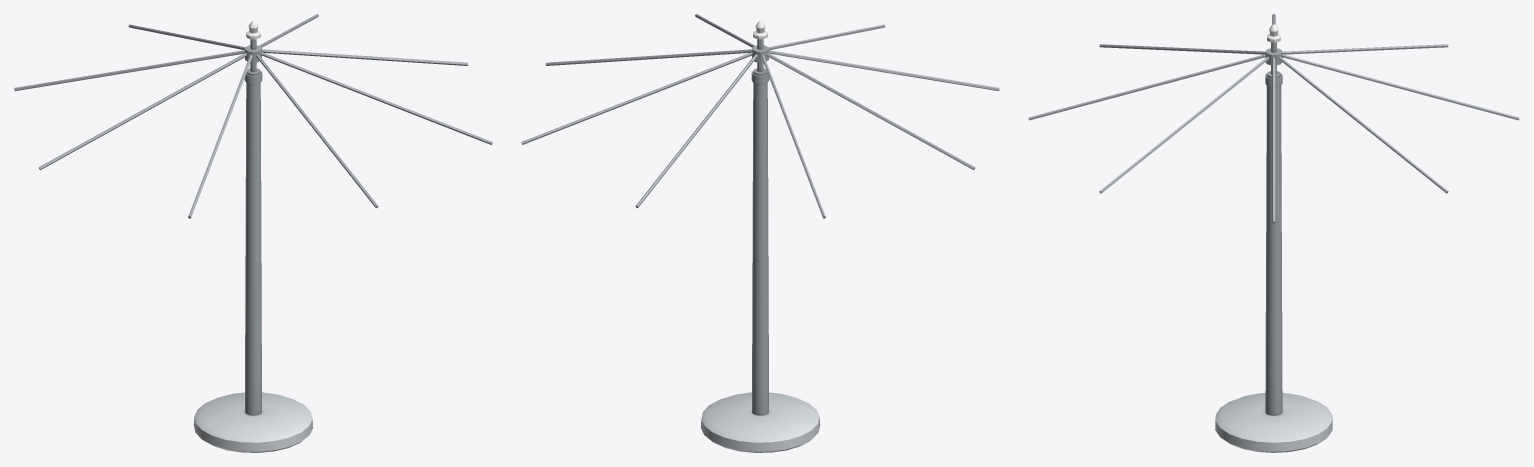
Rendered from pool_umbrella.glb.
3 renders of one model, left to right at view 1: azimuth 30°, elevation 25°; view 2: azimuth 150°, elevation 25°; view 3: azimuth 270°, elevation 25°, orthographic.
Parts seen in each view (by area): view 1: pool_umbrella; view 2: pool_umbrella; view 3: pool_umbrella.
Boxes of the visible parts, x1,y1,x2,y2 form: pool_umbrella: [14, 14, 492, 452]; pool_umbrella: [521, 14, 999, 452]; pool_umbrella: [1028, 14, 1519, 452].
Size of the model in its own units: 3.15 by 2.86 by 3.15.
Materials: 1 (1 with a texture image).
